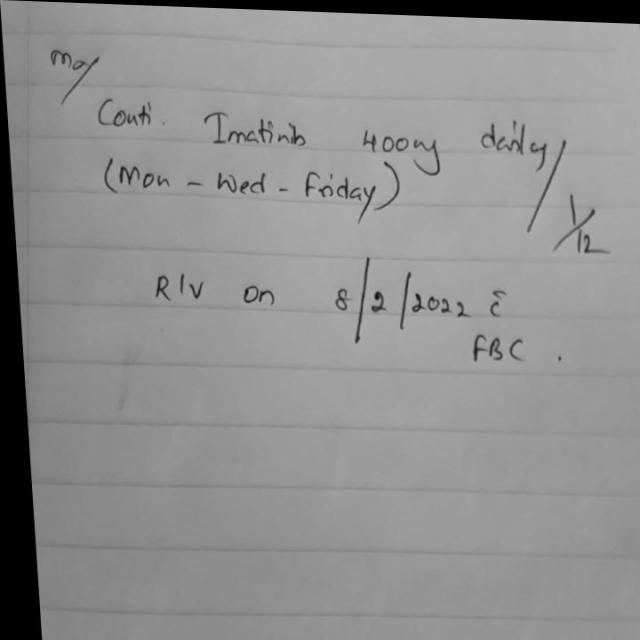Prescription: (91, 88, 617, 264)
